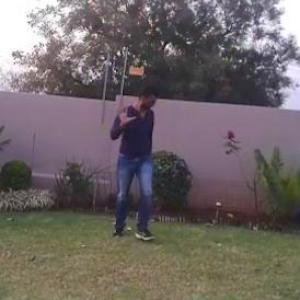follow_hand: (109, 99, 137, 128)
